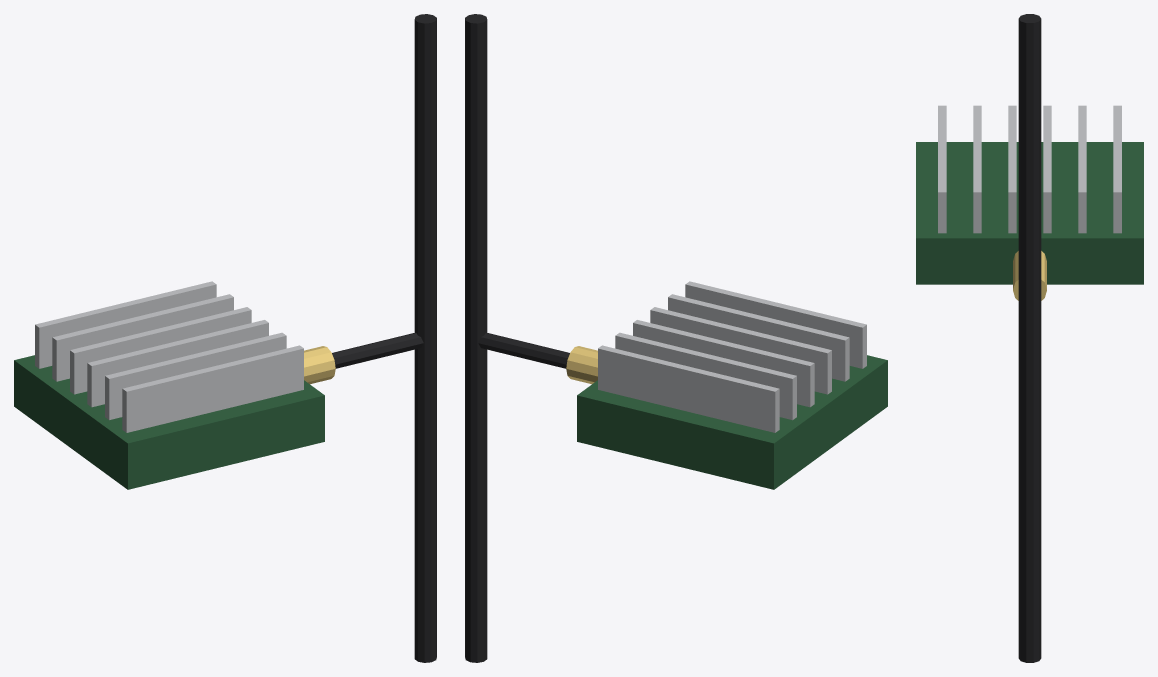
Rendered from Vtx_12_1500.glb.
3 renders of one model, left to right at view 1: azimuth 30°, elevation 25°; view 2: azimuth 150°, elevation 25°; view 3: azimuth 270°, elevation 25°, orthographic.
Parts seen in each view (by area): view 1: Vtx_12_1500, Fin.012, LegA.001, LegB.001, Fin.013, Fin.017, Fin.014, Fin.016, Fin.015, Feed.001, SMA.003; view 2: Vtx_12_1500, Fin.017, LegA.001, LegB.001, Fin.016, Fin.012, Fin.015, Fin.013, Fin.014, Feed.001, SMA.003; view 3: Vtx_12_1500, LegA.001, LegB.001, Fin.012, Fin.013, Fin.014, Fin.015, Fin.016, Fin.017, SMA.003.
Boxes of the visible parts, x1,y1,x2,y2 form: Vtx_12_1500: (14,355,324,489); Fin.012: (122,345,303,432); LegA.001: (414,14,436,343); LegB.001: (414,338,436,662); Fin.013: (105,332,286,420); Fin.017: (35,281,216,368); Fin.014: (87,320,268,407); Fin.016: (52,294,233,381); Fin.015: (70,307,251,394); Feed.001: (332,333,423,368); SMA.003: (304,346,335,384); Vtx_12_1500: (577,355,887,489); Fin.017: (598,345,779,432); LegA.001: (465,14,487,343); LegB.001: (465,338,487,662); Fin.016: (615,332,796,420); Fin.012: (685,281,866,368); Fin.015: (633,320,814,407); Fin.013: (668,294,849,381); Fin.014: (650,307,831,394); Feed.001: (478,333,569,368); SMA.003: (566,346,597,384); Vtx_12_1500: (916,142,1143,284); LegA.001: (1018,14,1041,342); LegB.001: (1018,339,1041,662); Fin.012: (938,105,946,233); Fin.013: (973,105,981,233); Fin.014: (1008,105,1016,233); Fin.015: (1043,105,1051,233); Fin.016: (1078,105,1086,233); Fin.017: (1113,105,1121,233); SMA.003: (1013,251,1046,300).
Size of the model in its own units: 0.0739 by 0.124 by 0.04.
